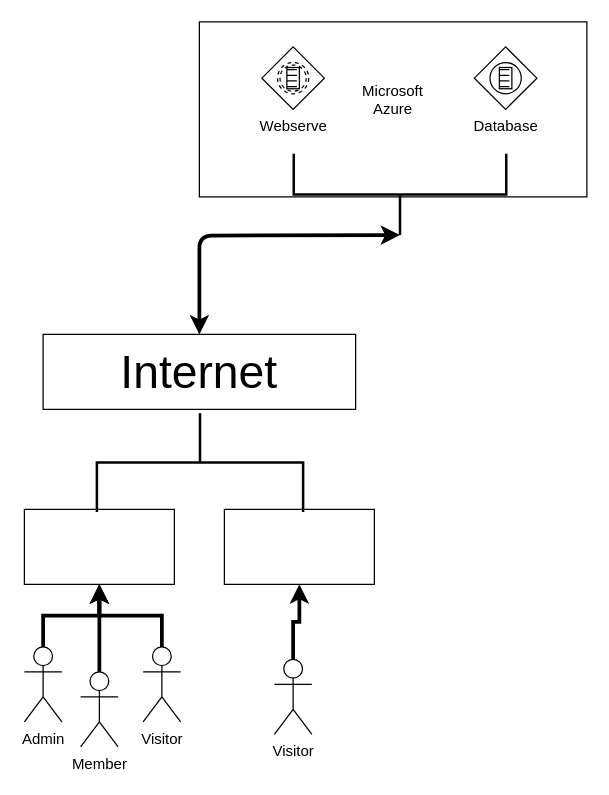
Some shapes in this 609 by 795 pixel diagram are drawn without their labels. The shapes that lost their labels are listed below. From the top down, each one's centre as x and y in pixels, then its label:
[98,546]: Web Browser (Chrome, Firefox, IE)
[298,546]: Mobile Web Browsers
